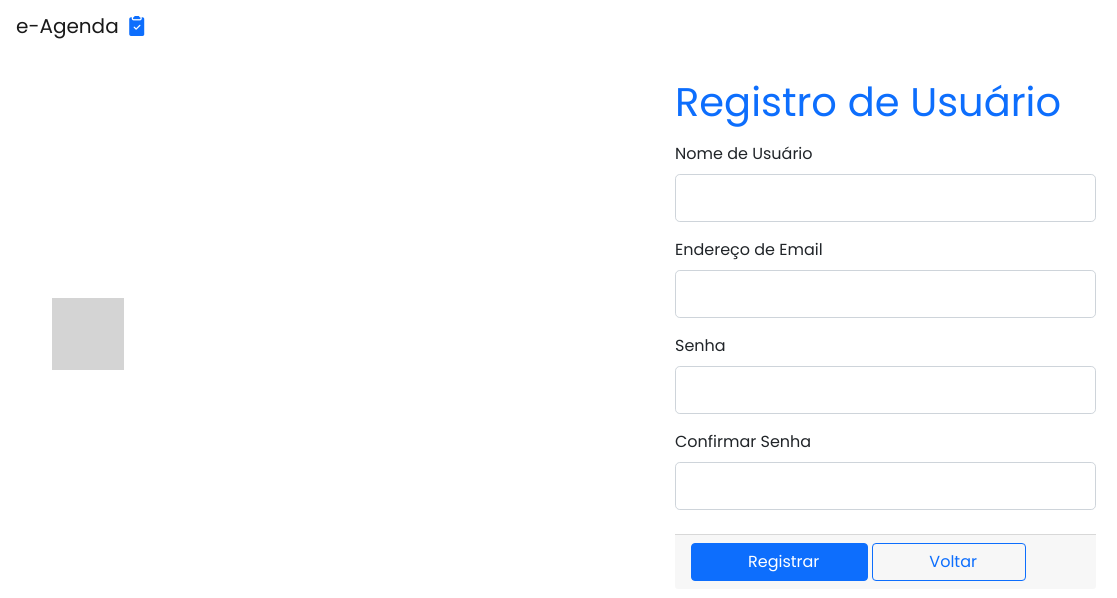
Test: alguma coisa › Deve - Validar quantidade de caracteres nome
Type "cy" into the field named "nome" at (886, 198), box [675,174,1096,222]
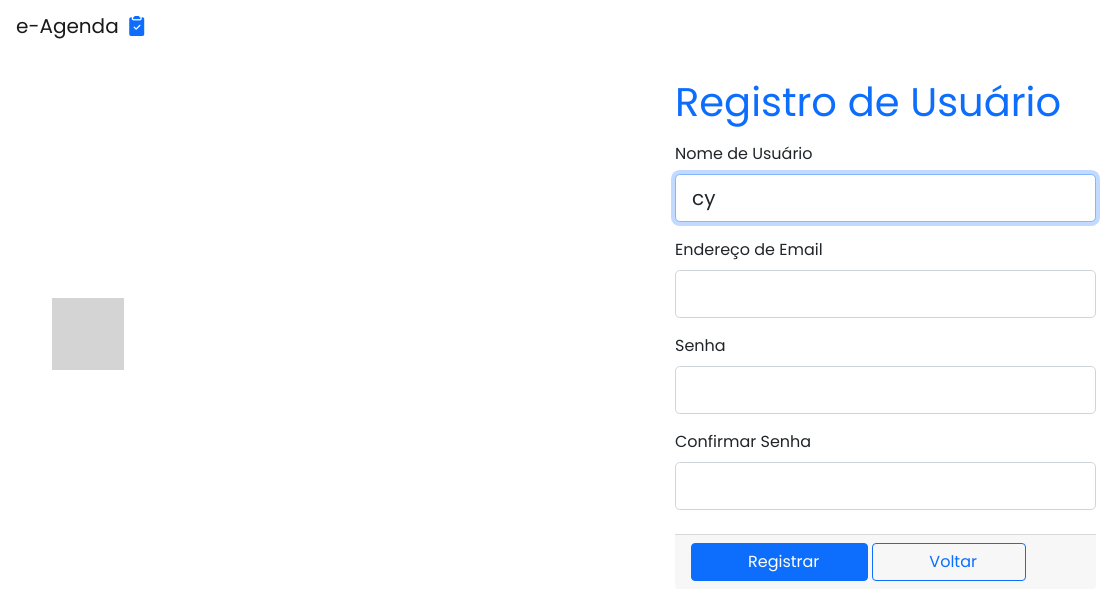
Type "cypress3@g.com" into the field named "email" at (886, 294), box [675,270,1096,318]
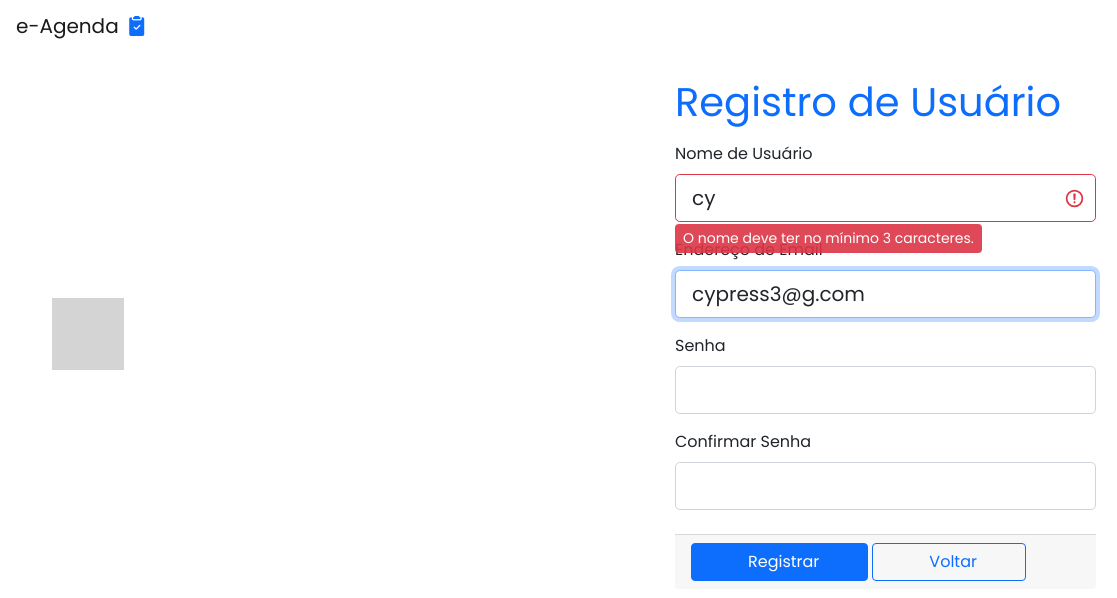
Expected: the text "O nome deve ter no mínimo 3 caracteres." is shown, [683,228,974,248]
